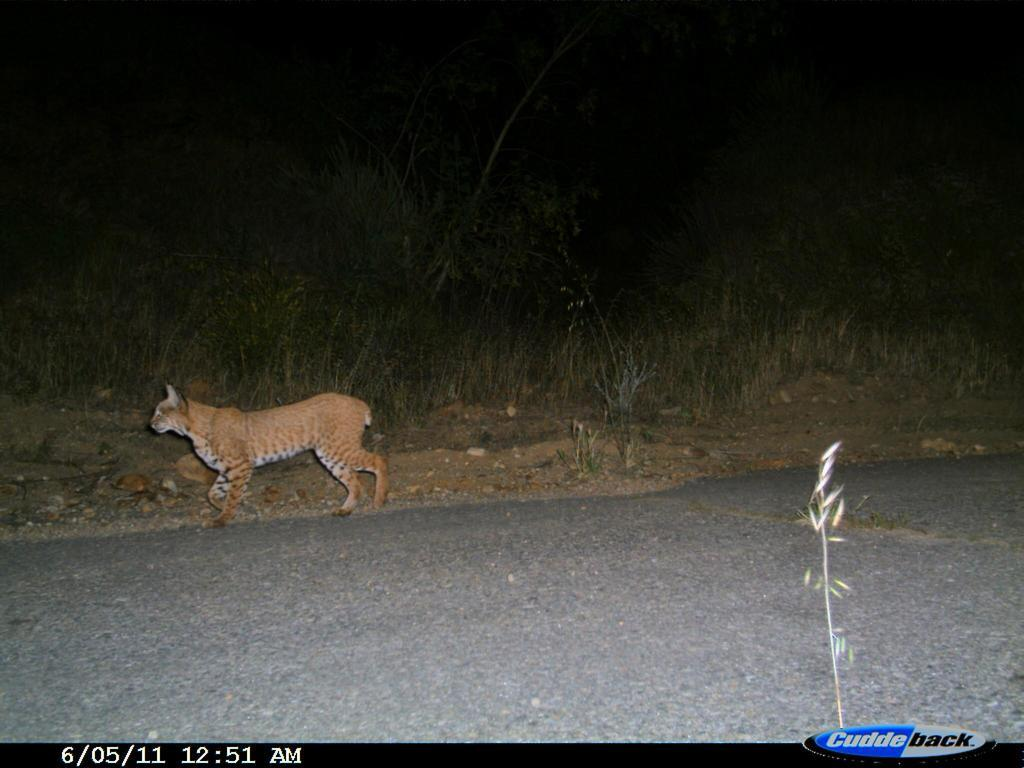bobcat: (141, 373, 402, 534)
